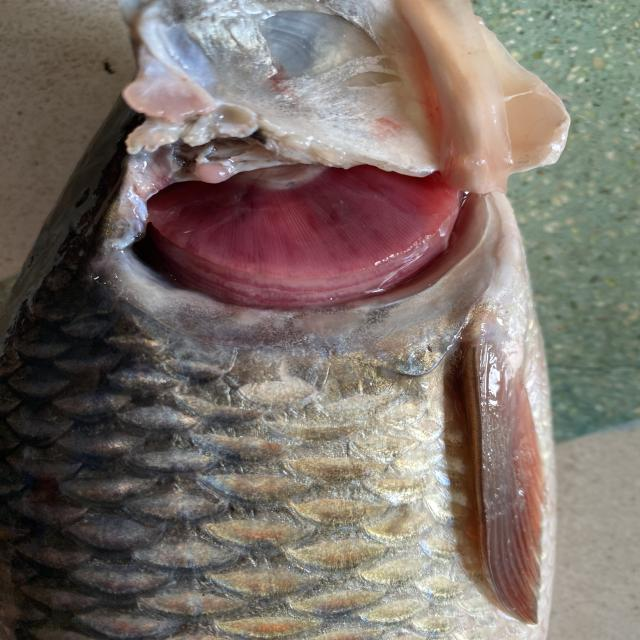Fresh: (125, 143, 513, 318)
